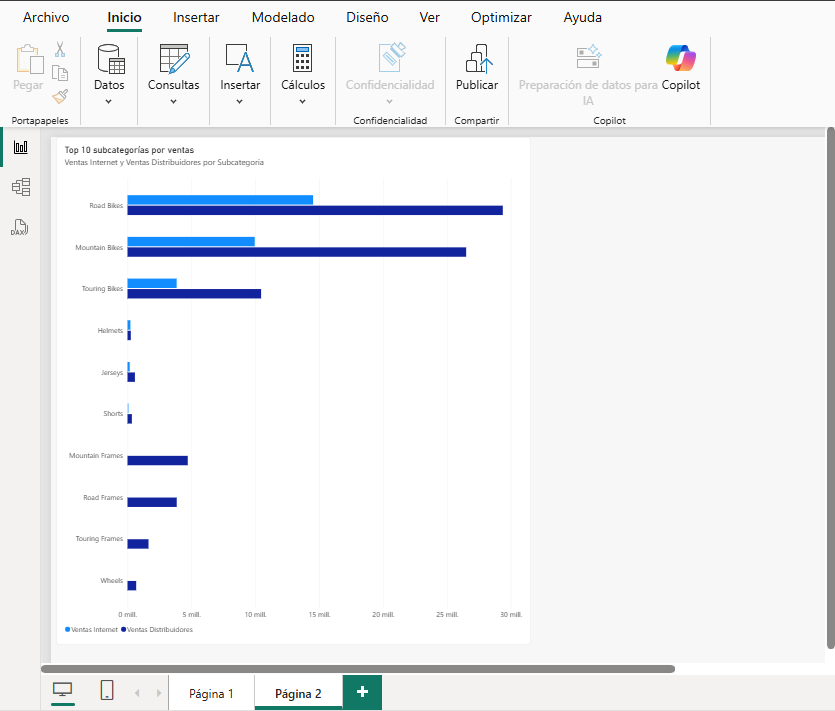

What the dashboard file says about the page in this screenshot:
{"tool":"powerbi","page":{"name":"Página 2","canvas":[1920,1080],"ordinal":1},"visuals":[{"type":"clusteredBarChart","title":"Top 10 subcategorías por ventas","fields":{"Category":["Dim Product.Subcategory"],"Y":["Fact Internet Sales.Sales Amount","Fact Reseller Sales.Sales Amount - Fact Reseller Sales"]},"box":[10,0,950,1016],"z":0}]}

Visuals, with their boxes on the page's 1920x1080 design canvas (x1, y1, x2, y2). These are canvas units, not pixel positions in the 835x711 screenshot, which may show the page scaled, cropped or inside an application window:
"Top 10 subcategorías por ventas" clusteredBarChart: {"x1": 10, "y1": 0, "x2": 960, "y2": 1016}
